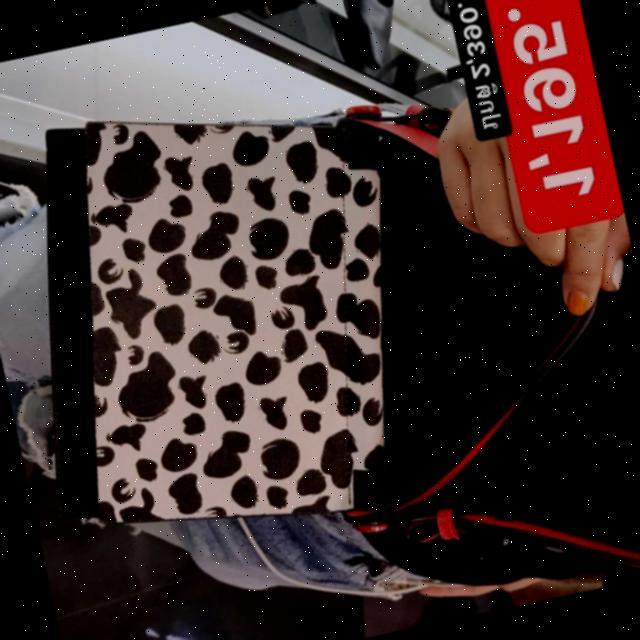handbag: (0, 60, 467, 573)
